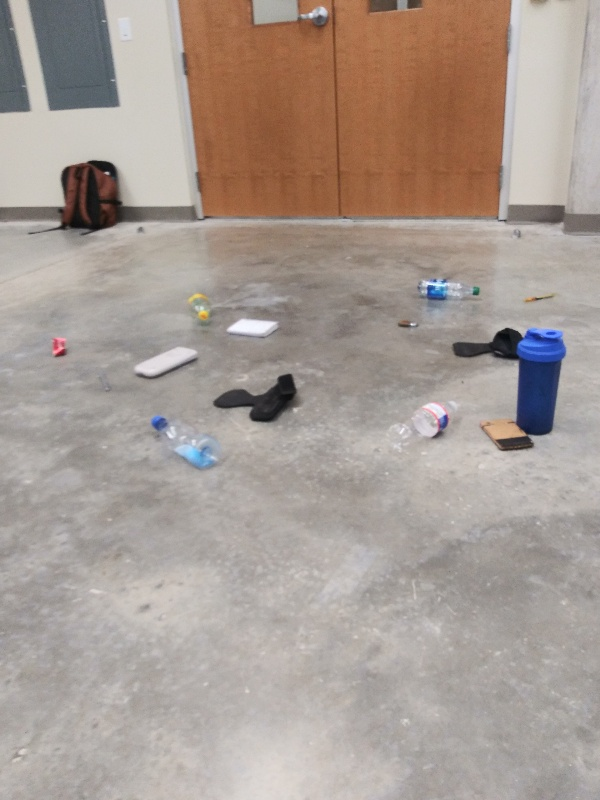bottle: (381, 395, 464, 459), (147, 411, 222, 471), (415, 276, 483, 305), (184, 288, 215, 325)
